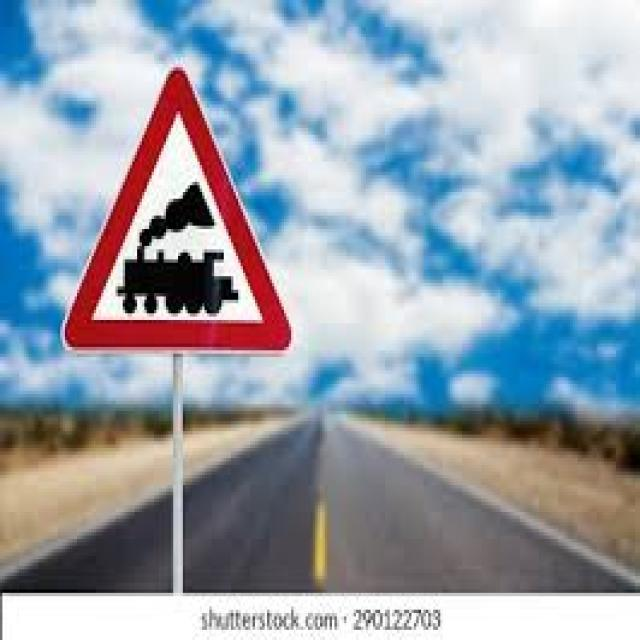unguarded level crossing: (59, 54, 297, 359)
